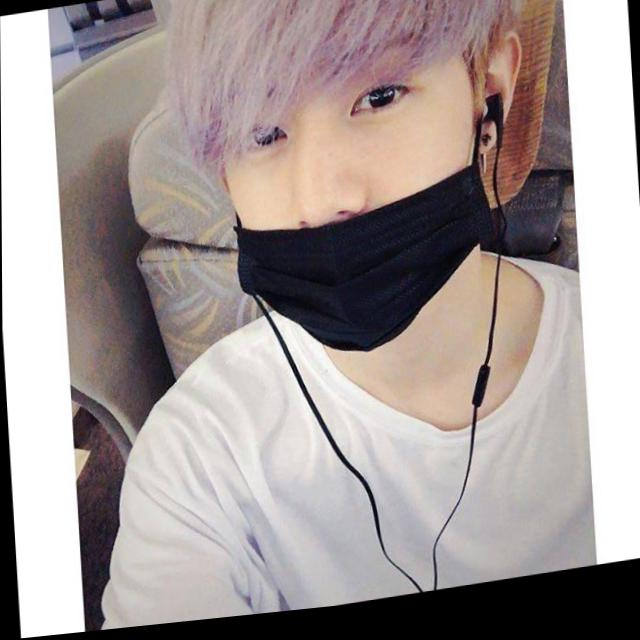WRONG: (153, 9, 508, 391)
